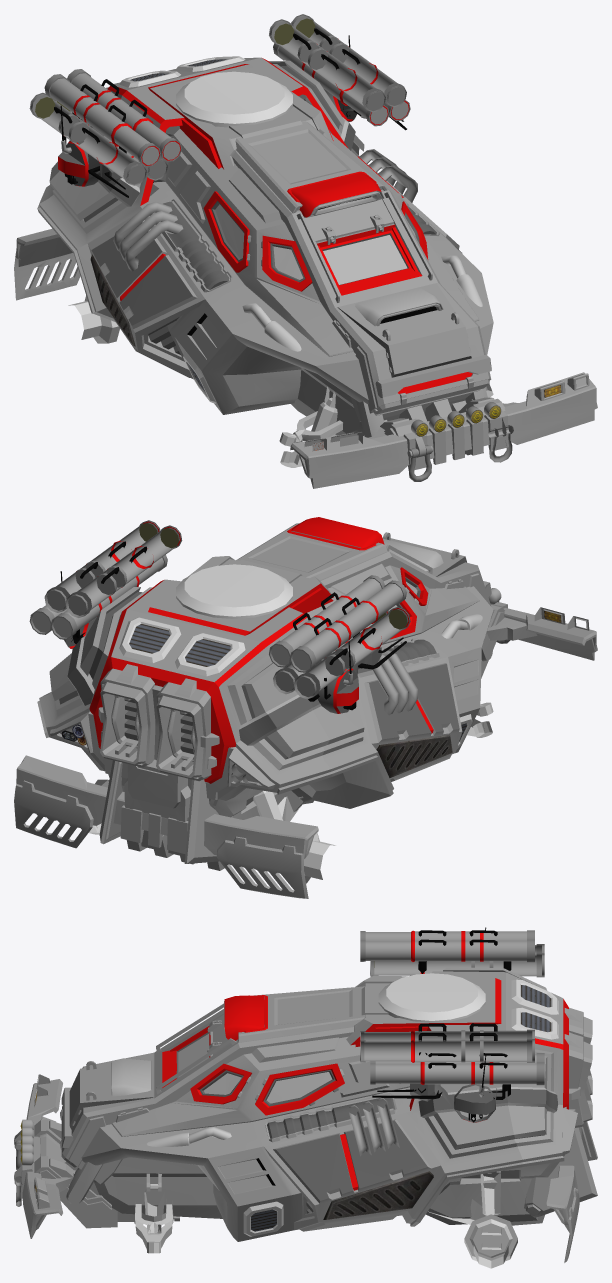
Rendered from battle_car.glb.
The picture shows the model from 3 angles, top to bottom: view 1: azimuth 30°, elevation 25°; view 2: azimuth 150°, elevation 25°; view 3: azimuth 270°, elevation 25°; orthographic projection. The views are drawn at different scales.
Visible parts, largest first — view 1: Material2 (×7), Material3 (×4); view 2: Material2 (×6), Material3 (×5); view 3: Material2 (×5), Material3 (×5).
Boxes of the visible parts, x1=… form: Material2 (×7): x1=14, y1=14, x2=597, y2=488; Material3 (×4): x1=58, y1=56, x2=491, y2=403; Material2 (×6): x1=14, y1=517, x2=597, y2=898; Material3 (×5): x1=59, y1=538, x2=489, y2=883; Material2 (×5): x1=14, y1=927, x2=597, y2=1262; Material3 (×5): x1=61, y1=973, x2=558, y2=1268.
Size of the model in its own units: 4.29 by 3.26 by 7.24.
18 materials, 8 textured.
